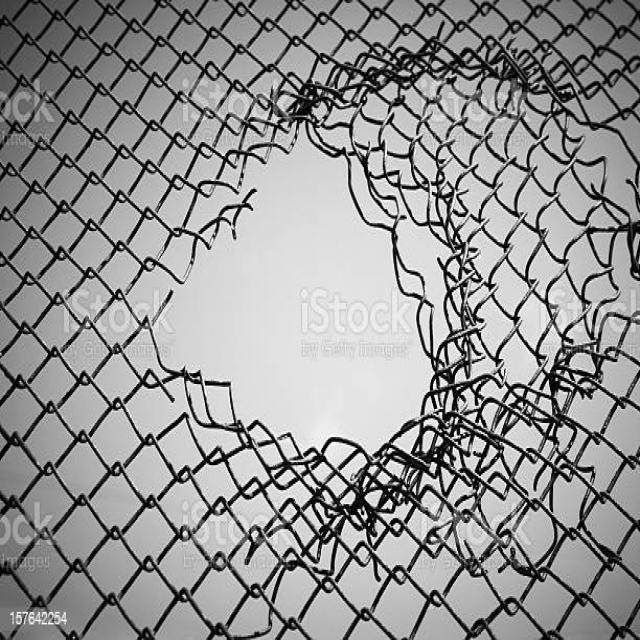fence line: (152, 137, 452, 468)
